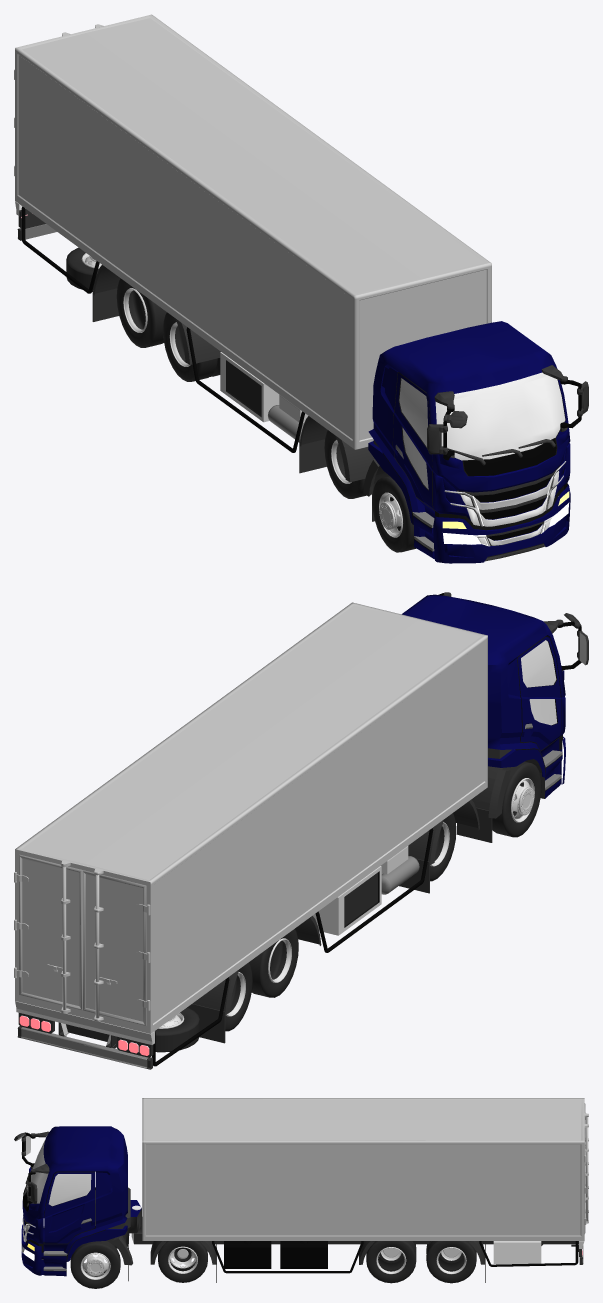
The model's file is truck.glb.
3 views of the same model, one above another, from view 1: azimuth 30°, elevation 25°; view 2: azimuth 150°, elevation 25°; view 3: azimuth 270°, elevation 25° (orthographic). The views are drawn at different scales.
Parts seen in each view (by area): view 1: Truck_body_Truck_body.L_3, Truck_head_Truck_head.L_1, wheels_Circle.006_20, wheels_Circle.027_9, wheels_Circle.010_18, wheels_Circle.028_11, wheels_Circle.026_8; view 2: Truck_body_Truck_body.L_3, Truck_head_Truck_head.L_1, wheels_Circle.010_18, wheels_Circle.027_9, wheels_Circle.006_20, wheels_Circle.028_11, wheels_Circle.026_8; view 3: Truck_body_Truck_body.L_3, Truck_head_Truck_head.L_1, wheels_Circle.013_26, wheels_Circle.008_23, wheels_Circle.001_5, wheels_Circle.025_15, wheels_Circle.002_6, wheels_Circle.024_14, wheels_Circle.014_27, wheels_Circle.012_24.
Boxes of the visible parts, x1,y1,x2,y2 form: Truck_body_Truck_body.L_3: (14, 14, 491, 482); Truck_head_Truck_head.L_1: (363, 321, 588, 563); wheels_Circle.006_20: (116, 278, 166, 347); wheels_Circle.027_9: (372, 476, 415, 552); wheels_Circle.010_18: (163, 312, 220, 381); wheels_Circle.028_11: (324, 430, 366, 498); wheels_Circle.026_8: (379, 492, 402, 537); Truck_body_Truck_body.L_3: (14, 602, 487, 1069); Truck_head_Truck_head.L_1: (402, 592, 588, 842); wheels_Circle.010_18: (249, 929, 298, 997); wheels_Circle.027_9: (492, 761, 541, 837); wheels_Circle.006_20: (225, 962, 252, 1031); wheels_Circle.028_11: (430, 813, 456, 881); wheels_Circle.026_8: (511, 778, 534, 822); Truck_body_Truck_body.L_3: (131, 1098, 588, 1282); Truck_head_Truck_head.L_1: (14, 1126, 141, 1281); wheels_Circle.013_26: (426, 1241, 476, 1283); wheels_Circle.008_23: (366, 1241, 416, 1283); wheels_Circle.001_5: (70, 1240, 120, 1288); wheels_Circle.025_15: (158, 1241, 207, 1282); wheels_Circle.002_6: (80, 1252, 110, 1279); wheels_Circle.024_14: (168, 1246, 197, 1273); wheels_Circle.014_27: (436, 1247, 466, 1274); wheels_Circle.012_24: (376, 1247, 406, 1274).
Bounding box in the file's own units: 3.45 × 4.51 × 15.91.
